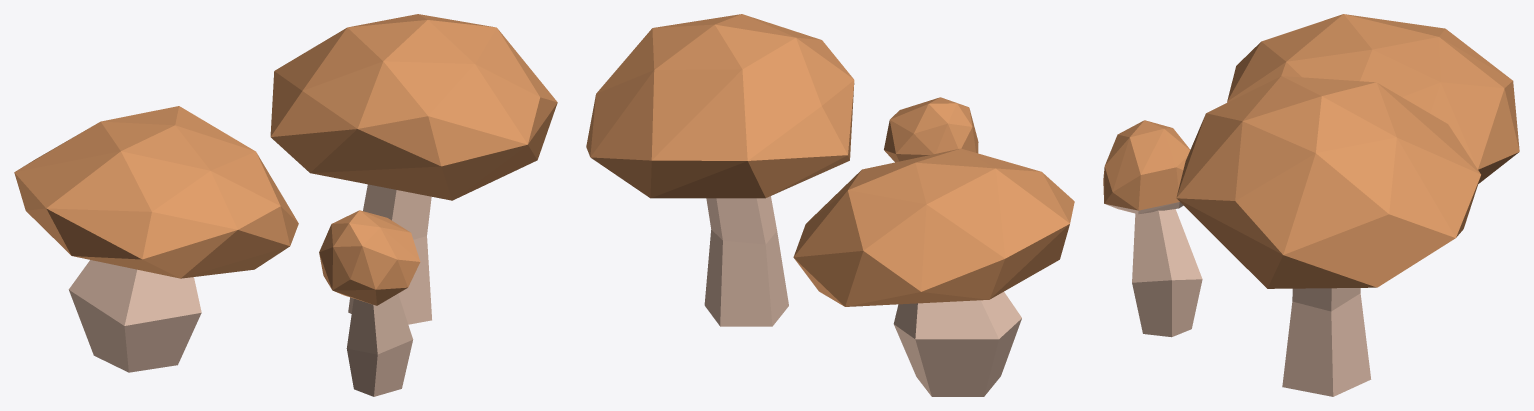
The model's file is Mushroom_f_07.fbx.
3 renders of one model, left to right at view 1: azimuth 30°, elevation 25°; view 2: azimuth 150°, elevation 25°; view 3: azimuth 270°, elevation 25°, orthographic. The views are drawn at different scales.
Visible parts, largest first — view 1: Mushroom_f_07; view 2: Mushroom_f_07; view 3: Mushroom_f_07.
Part boxes in pixels (<box>): Mushroom_f_07: <box>14,14,557,396</box>; Mushroom_f_07: <box>586,14,1074,396</box>; Mushroom_f_07: <box>1103,14,1519,396</box>.
Size of the model in its own units: 45.53 by 25.64 by 32.25.
